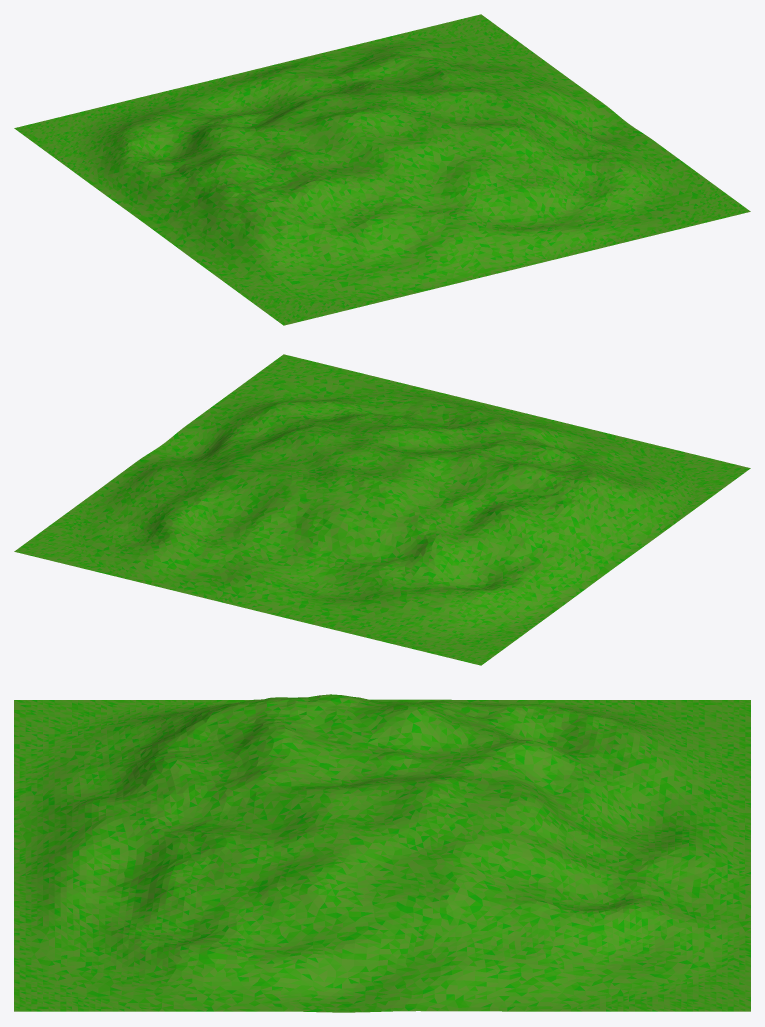
The model's file is Landscape.glb.
3 views of the same model, one above another, from view 1: azimuth 30°, elevation 25°; view 2: azimuth 150°, elevation 25°; view 3: azimuth 270°, elevation 25° (orthographic). The views are drawn at different scales.
Visible parts, largest first — view 1: Landscape; view 2: Landscape; view 3: Landscape.
Part boxes in pixels (bbox=[...]): Landscape: bbox=[14, 14, 750, 325]; Landscape: bbox=[14, 354, 750, 665]; Landscape: bbox=[14, 694, 750, 1012].
Size of the model in its own units: 400 by 40.06 by 400.
